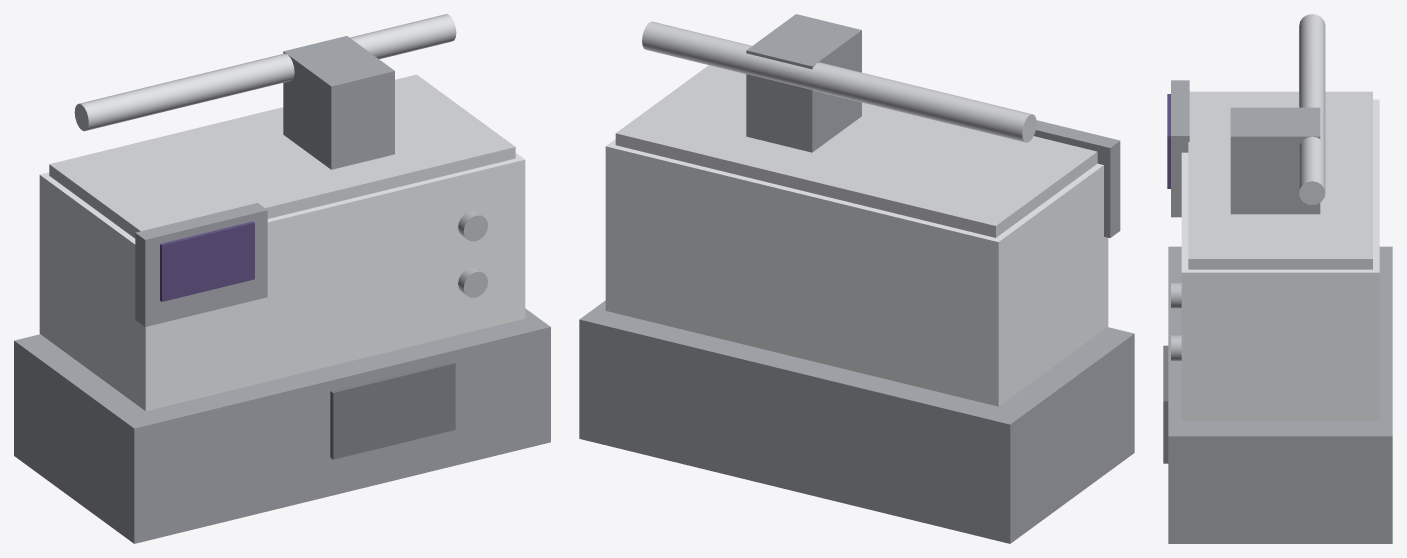
File: industrial-machine.glb
The picture shows the model from 3 angles, left to right: view 1: azimuth 30°, elevation 25°; view 2: azimuth 150°, elevation 25°; view 3: azimuth 270°, elevation 25°; orthographic projection. The views are drawn at different scales.
Size of the model in its own units: 1.7 by 1.47 by 0.87.
